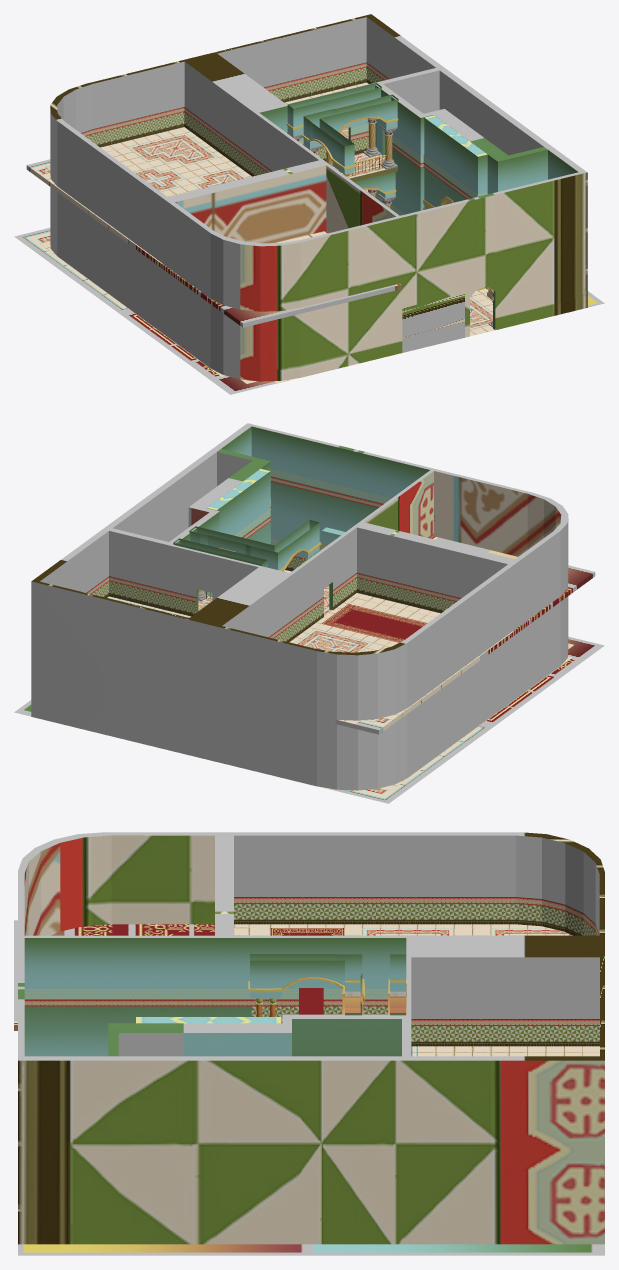
The model's file is Mansion_End.fbx.
3 renders of one model, top to bottom at view 1: azimuth 30°, elevation 25°; view 2: azimuth 150°, elevation 25°; view 3: azimuth 270°, elevation 25°, orthographic. The views are drawn at different scales.
Parts seen in each view (by area): view 1: Walls, Floor2, Arcs, Floor1, Arcs.001, Walls.038, Walls.019, Walls.037, Walls.015, Walls.020; view 2: Walls, Floor2, Floor1, Arcs, Arcs.001, Walls.036, Walls.029, Walls.014, Walls.037; view 3: Walls, Floor2, Walls.035, Floor1, Arcs, Walls.034, Walls.013, Walls.039, Walls.011, Arcs.001.
Part boxes in pixels (x1,y1,x2,y2): Walls: (50, 14, 587, 381); Floor2: (26, 82, 401, 327); Arcs: (286, 83, 398, 174); Floor1: (14, 189, 604, 394); Arcs.001: (423, 115, 487, 209); Walls.038: (81, 107, 184, 147); Walls.019: (264, 62, 366, 102); Walls.037: (184, 107, 272, 176); Walls.015: (392, 135, 487, 199); Walls.020: (354, 172, 396, 198); Walls: (31, 423, 568, 790); Floor2: (107, 536, 595, 734); Floor1: (14, 569, 604, 803); Arcs: (173, 520, 321, 571); Arcs.001: (207, 468, 270, 544); Walls.036: (357, 572, 461, 613); Walls.029: (109, 576, 196, 616); Walls.014: (270, 468, 434, 521); Walls.037: (269, 573, 356, 642); Walls: (18, 832, 604, 1244); Floor2: (14, 920, 599, 1056); Walls.035: (234, 897, 541, 926); Floor1: (18, 1244, 604, 1255); Arcs: (248, 954, 406, 1015); Walls.034: (411, 1019, 599, 1046); Walls.013: (24, 989, 298, 1023); Walls.039: (541, 899, 590, 935); Walls.011: (323, 989, 388, 1014); Arcs.001: (136, 1017, 281, 1023).
Size of the model in its own units: 2969 by 1040 by 2989.
